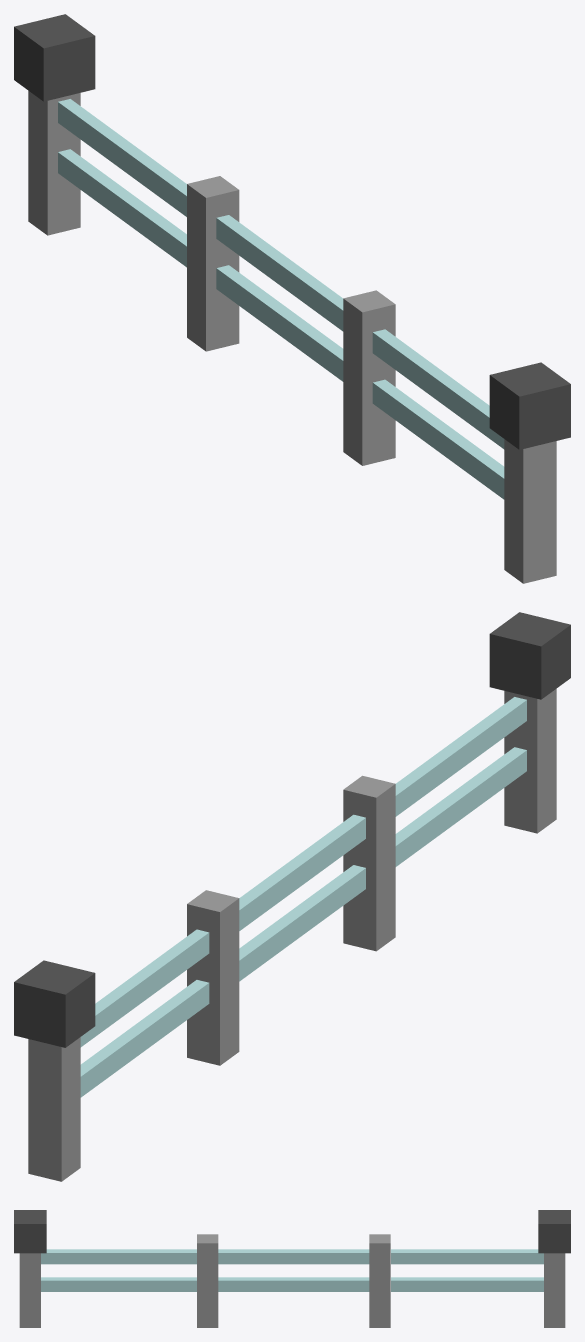
File: LabFence.fbx
The picture shows the model from 3 angles, top to bottom: view 1: azimuth 30°, elevation 25°; view 2: azimuth 150°, elevation 25°; view 3: azimuth 270°, elevation 25°; orthographic projection. The views are drawn at different scales.
Parts seen in each view (by area): view 1: pCube162, pCube158, pCube164, pCube159, pCube163, pCube157, pCube168, pCube160, pCube161, pCube166, pCube165, pCube167; view 2: pCube158, pCube162, pCube157, pCube159, pCube163, pCube164, pCube167, pCube168, pCube161, pCube166, pCube165, pCube160; view 3: pCube167, pCube165, pCube160, pCube168, pCube161, pCube166, pCube158, pCube162, pCube157, pCube164, pCube159, pCube163.
Part boxes in pixels (left/top/right/bottom): pCube162: left=343, top=290, right=395, bottom=465; pCube158: left=187, top=176, right=239, bottom=351; pCube164: left=504, top=439, right=556, bottom=583; pCube159: left=14, top=14, right=95, bottom=101; pCube163: left=489, top=362, right=570, bottom=449; pCube157: left=28, top=91, right=80, bottom=235; pCube168: left=372, top=379, right=504, bottom=499; pCube160: left=58, top=99, right=186, bottom=216; pCube161: left=58, top=149, right=186, bottom=267; pCube166: left=216, top=265, right=343, bottom=381; pCube165: left=216, top=215, right=343, bottom=331; pCube167: left=372, top=329, right=504, bottom=449; pCube158: left=187, top=890, right=239, bottom=1065; pCube162: left=343, top=775, right=395, bottom=951; pCube157: left=28, top=1037, right=80, bottom=1181; pCube159: left=14, top=960, right=95, bottom=1047; pCube163: left=489, top=612, right=570, bottom=699; pCube164: left=504, top=689, right=556, bottom=833; pCube167: left=395, top=697, right=526, bottom=816; pCube168: left=395, top=747, right=526, bottom=866; pCube161: left=80, top=980, right=209, bottom=1097; pCube166: left=239, top=865, right=365, bottom=981; pCube165: left=239, top=814, right=365, bottom=930; pCube160: left=80, top=929, right=209, bottom=1047; pCube167: left=41, top=1249, right=196, bottom=1264; pCube165: left=218, top=1249, right=369, bottom=1264; pCube160: left=391, top=1249, right=543, bottom=1264; pCube168: left=41, top=1277, right=196, bottom=1291; pCube161: left=391, top=1277, right=543, bottom=1291; pCube166: left=218, top=1277, right=369, bottom=1291; pCube158: left=369, top=1234, right=390, bottom=1327; pCube162: left=197, top=1234, right=218, bottom=1327; pCube157: left=544, top=1253, right=565, bottom=1327; pCube164: left=19, top=1253, right=40, bottom=1327; pCube159: left=538, top=1210, right=570, bottom=1253; pCube163: left=14, top=1210, right=46, bottom=1253.
Bounding box in the file's own units: 1.22 × 4.37 × 20.74.
